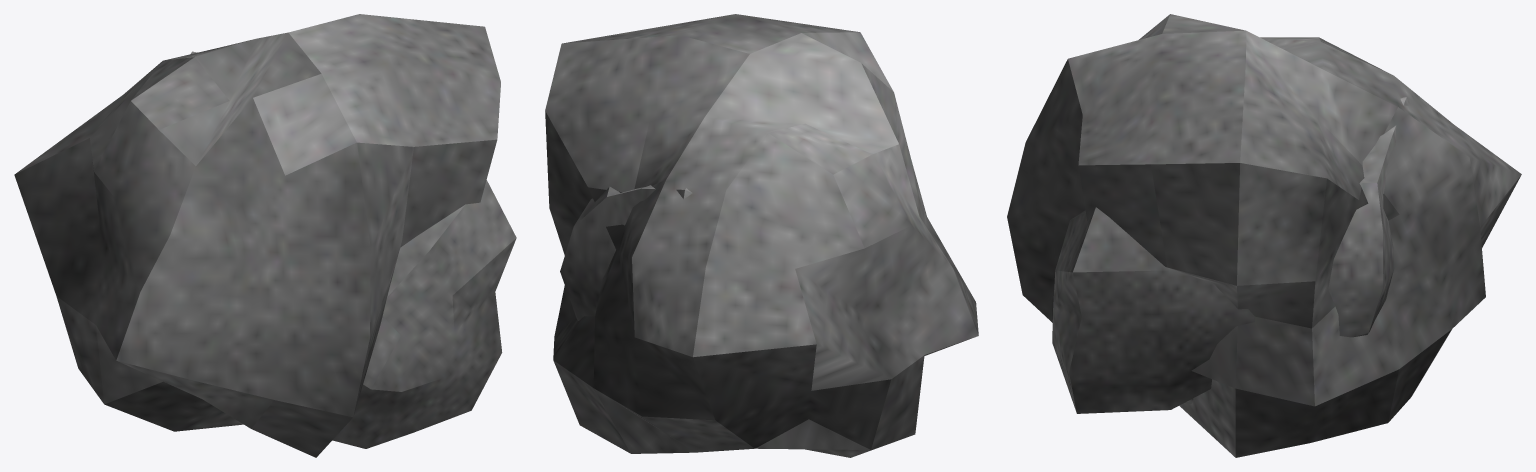
Rendered from Rocks.fbx.
The picture shows the model from 3 angles, left to right: view 1: azimuth 30°, elevation 25°; view 2: azimuth 150°, elevation 25°; view 3: azimuth 270°, elevation 25°; orthographic projection.
Parts seen in each view (by area): view 1: Rock3, Rock4; view 2: Rock3, Rock4; view 3: Rock3, Rock4.
Boxes of the visible parts, x1,y1,x2,y2 form: Rock3: (14,14,500,457); Rock4: (190,51,516,448); Rock3: (545,14,978,457); Rock4: (560,185,692,320); Rock3: (1007,14,1521,457); Rock4: (1051,97,1408,413).
Bounding box in the file's own units: 296 × 276 × 337.
